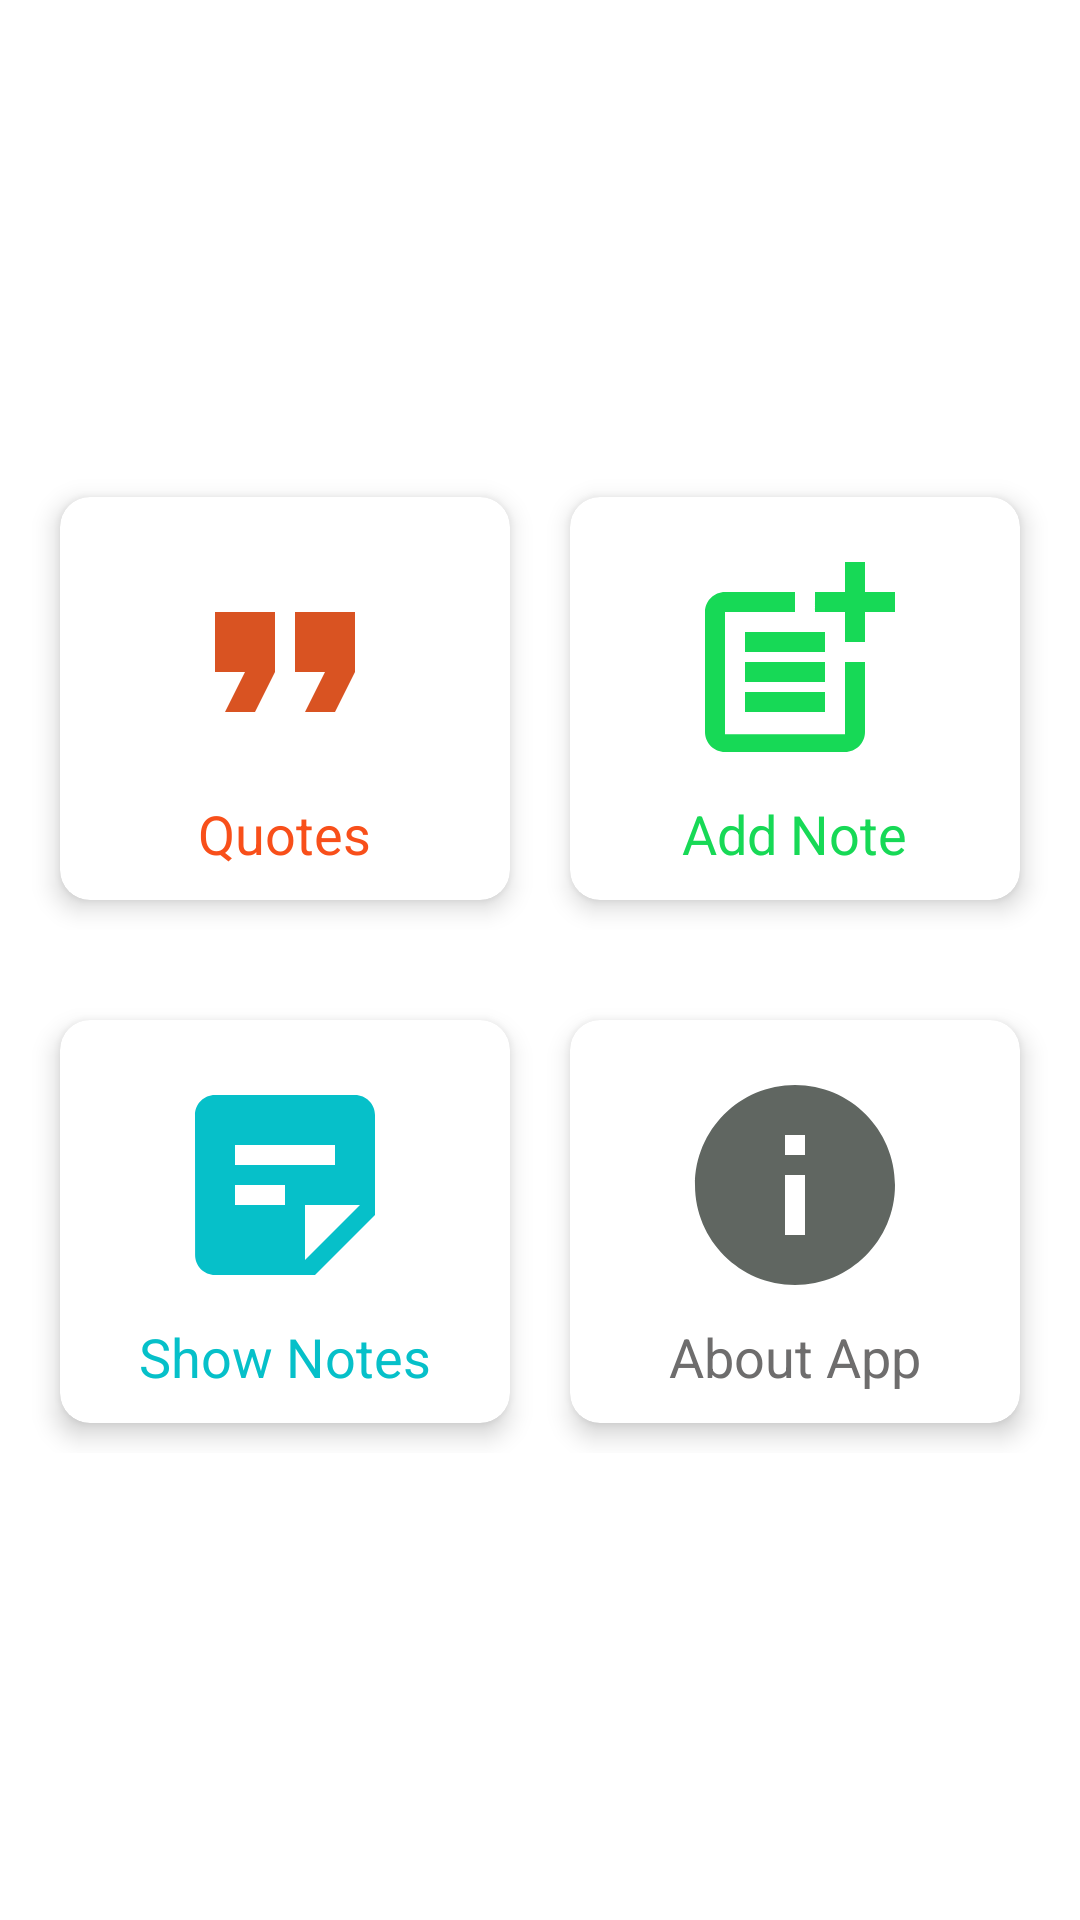

Screen size 1080w x 1920h. Icon name, then its center in pixels as [x,y]:
format quote: [285,662]
